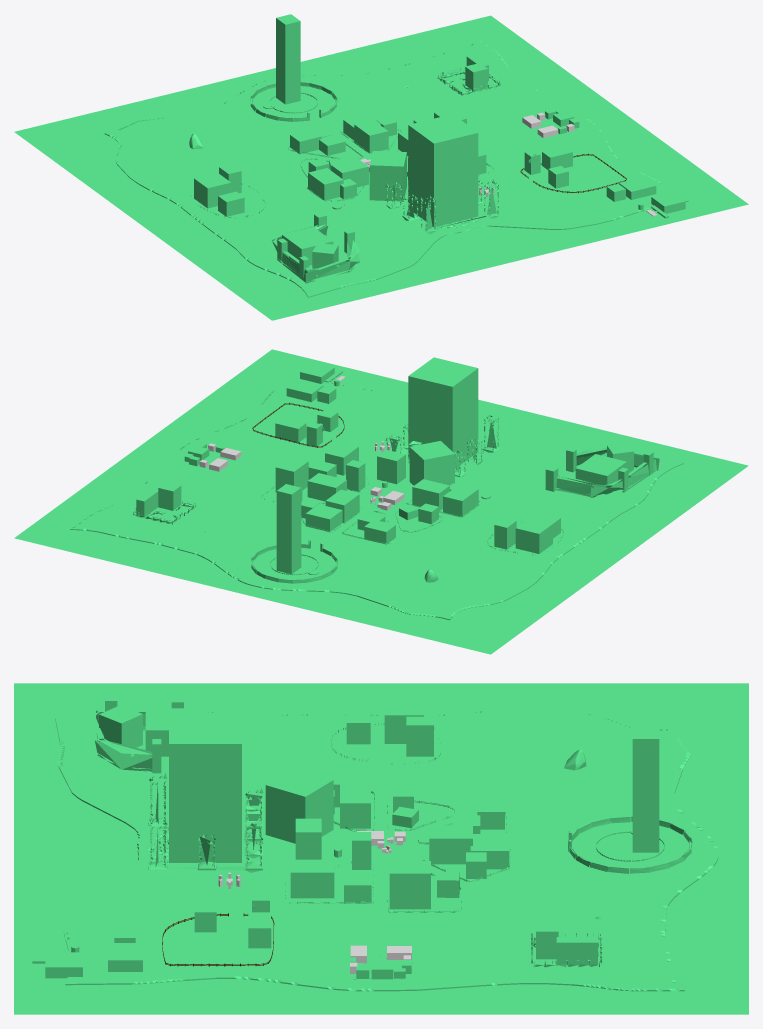
The picture shows the model from 3 angles, top to bottom: view 1: azimuth 30°, elevation 25°; view 2: azimuth 150°, elevation 25°; view 3: azimuth 270°, elevation 25°; orthographic projection. The views are drawn at different scales.
Visible parts, largest first — view 1: COL_Ground, COL_Water, COL_Temple_SecondAge_Level2, COL_House_3.001, COL_Barracks_SecondAge_Level3, COL_Wall_SecondAge.002, COL_WonderWalls_SecondAge, COL_Barracks_FirstAge_Level2.001, COL_Blacksmith, COL_Houses_SecondAge_2_Level2.001, COL_Stable.001, COL_Houses_SecondAge_2_Level2.002 (+8 smaller); view 2: COL_Ground, COL_Water, COL_Temple_SecondAge_Level2, COL_House_3.001, COL_Wall_SecondAge.002, COL_Barracks_SecondAge_Level3, COL_WonderWalls_SecondAge, COL_Barracks_FirstAge_Level2.001, COL_Blacksmith, COL_Inn, COL_Stable.001, COL_TowerHouse_SecondAge (+13 smaller); view 3: COL_Ground, COL_Water, COL_Temple_SecondAge_Level2, COL_Barracks_SecondAge_Level3, COL_House_3.001, COL_WonderWalls_SecondAge, COL_Inn, COL_Houses_SecondAge_2_Level2, COL_Wall_SecondAge.002, COL_Houses_SecondAge_2_Level2.001, COL_House_2.001, COL_Wall_SecondAge (+19 smaller).
Part boxes in pixels (box(x1,y1,x2,y2)): COL_Ground: box(104, 39, 688, 297); COL_Water: box(14, 15, 748, 320); COL_Temple_SecondAge_Level2: box(408, 114, 478, 226); COL_House_3.001: box(276, 14, 300, 104); COL_Barracks_SecondAge_Level3: box(369, 151, 406, 201); COL_Wall_SecondAge.002: box(271, 224, 360, 283); COL_WonderWalls_SecondAge: box(385, 179, 499, 234); COL_Barracks_FirstAge_Level2.001: box(282, 227, 333, 265); COL_Blacksmith: box(194, 172, 231, 208); COL_Houses_SecondAge_2_Level2.001: box(354, 120, 388, 153); COL_Stable.001: box(308, 168, 343, 200); COL_Houses_SecondAge_2_Level2.002: box(331, 158, 368, 187); COL_Ground: box(70, 372, 683, 620); COL_Water: box(14, 349, 748, 654); COL_Temple_SecondAge_Level2: box(408, 357, 478, 468); COL_House_3.001: box(276, 484, 301, 574); COL_Wall_SecondAge.002: box(556, 448, 659, 498); COL_Barracks_SecondAge_Level3: box(409, 441, 454, 485); COL_WonderWalls_SecondAge: box(385, 415, 499, 477); COL_Barracks_FirstAge_Level2.001: box(575, 454, 626, 494); COL_Blacksmith: box(515, 518, 552, 553); COL_Inn: box(275, 456, 308, 492); COL_Stable.001: box(443, 484, 478, 516); COL_TowerHouse_SecondAge: box(377, 449, 405, 484); COL_Ground: box(55, 709, 718, 991); COL_Water: box(14, 683, 748, 1014); COL_Temple_SecondAge_Level2: box(169, 713, 241, 862); COL_Barracks_SecondAge_Level3: box(265, 768, 333, 843); COL_House_3.001: box(632, 728, 659, 852); COL_WonderWalls_SecondAge: box(148, 773, 263, 872); COL_Inn: box(389, 861, 430, 909); COL_Houses_SecondAge_2_Level2: box(290, 859, 334, 898); COL_Wall_SecondAge.002: box(87, 709, 207, 771); COL_Houses_SecondAge_2_Level2.001: box(429, 825, 472, 864); COL_House_2.001: box(99, 705, 142, 747); COL_Wall_SecondAge: box(569, 816, 692, 873).
Bounding box in the file's own units: 320 × 56.78 × 300.
2 materials, 1 textured.
